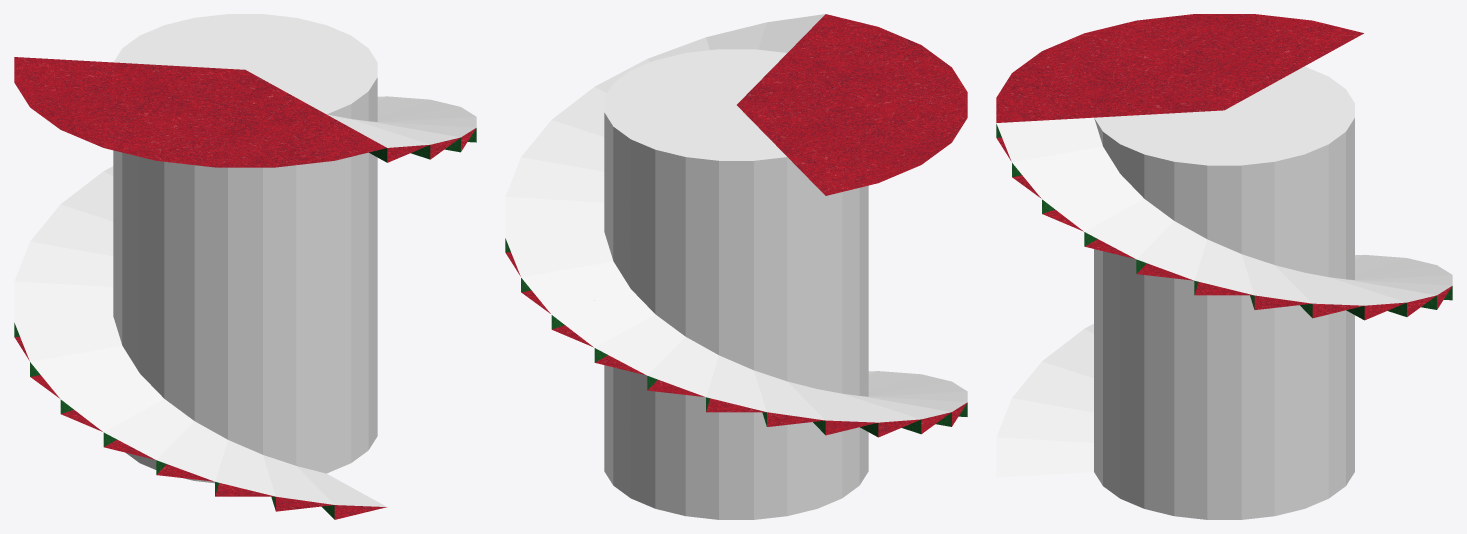
The model's file is examples.gltf.
3 renders of one model, left to right at view 1: azimuth 30°, elevation 25°; view 2: azimuth 150°, elevation 25°; view 3: azimuth 270°, elevation 25°, orthographic.
Visible parts, largest first — view 1: cylinder, Ramp, circle (×2); view 2: cylinder, Ramp, circle (×2); view 3: cylinder, Ramp, circle (×2).
Part boxes in pixels (x1,y1,x2,y2): cylinder: (113, 14, 377, 483); Ramp: (14, 96, 476, 506); circle (×2): (14, 57, 476, 519); cylinder: (604, 49, 868, 519); Ramp: (505, 14, 967, 422); circle (×2): (505, 14, 967, 437); cylinder: (1094, 66, 1354, 519); Ramp: (996, 117, 1452, 477); circle (×2): (996, 14, 1452, 320).
Bounding box in the file's own units: 7 × 6 × 7.
Materials: 6 (4 with a texture image).
